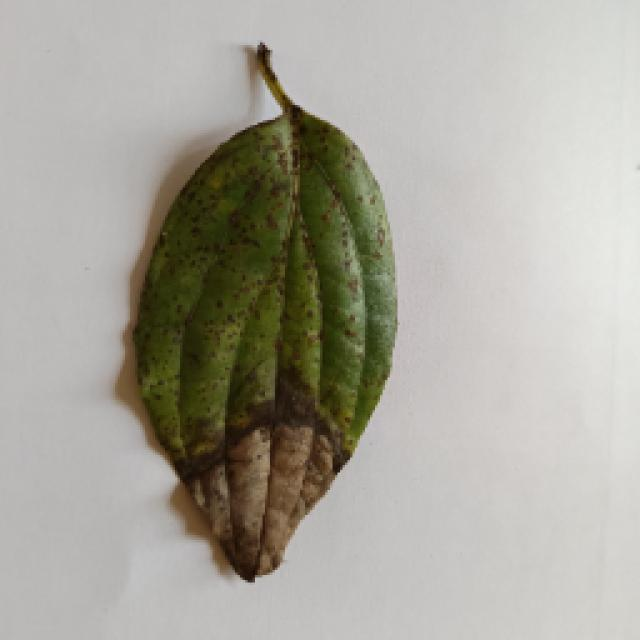footrot: (130, 53, 395, 585)
